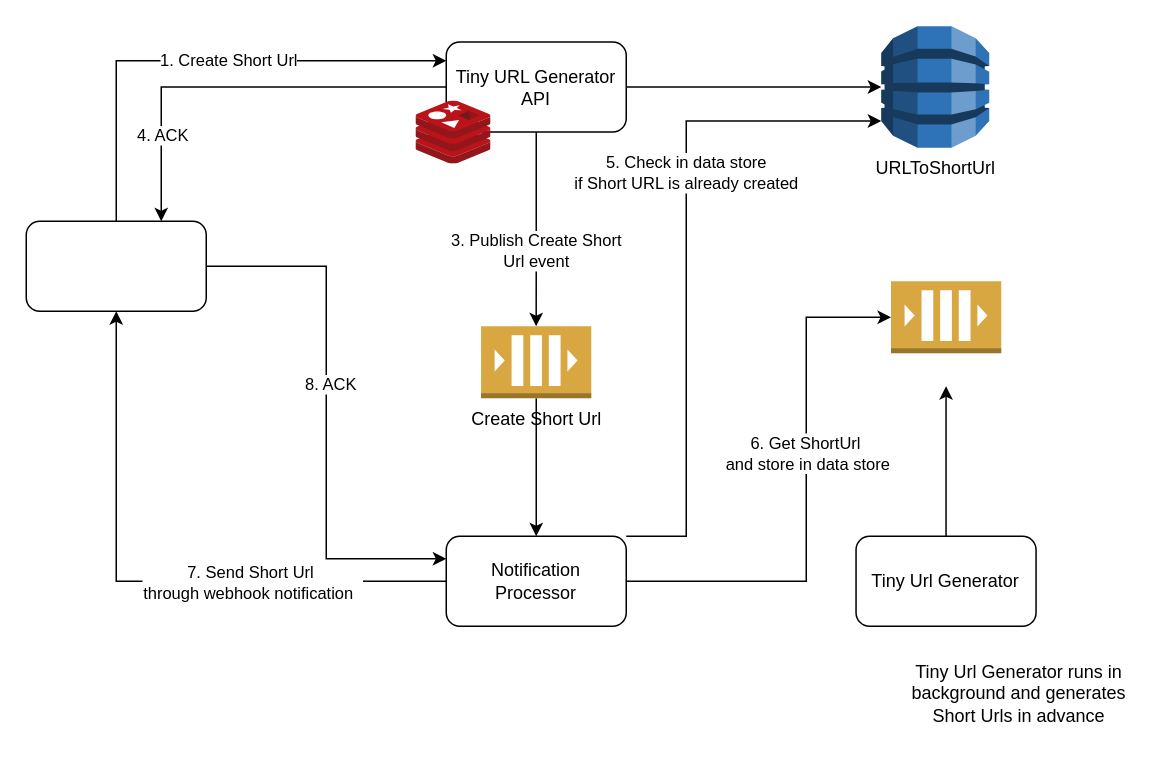
Some shapes in this 1172 by 773 pixel diagram are drawn without their labels. The centre of each missing label's shape, as x and y in pixels:
"2. check in cache" belongs at point (453, 132).
"Client" belongs at point (115, 265).
"UnusedShortUrls" belongs at point (945, 316).
